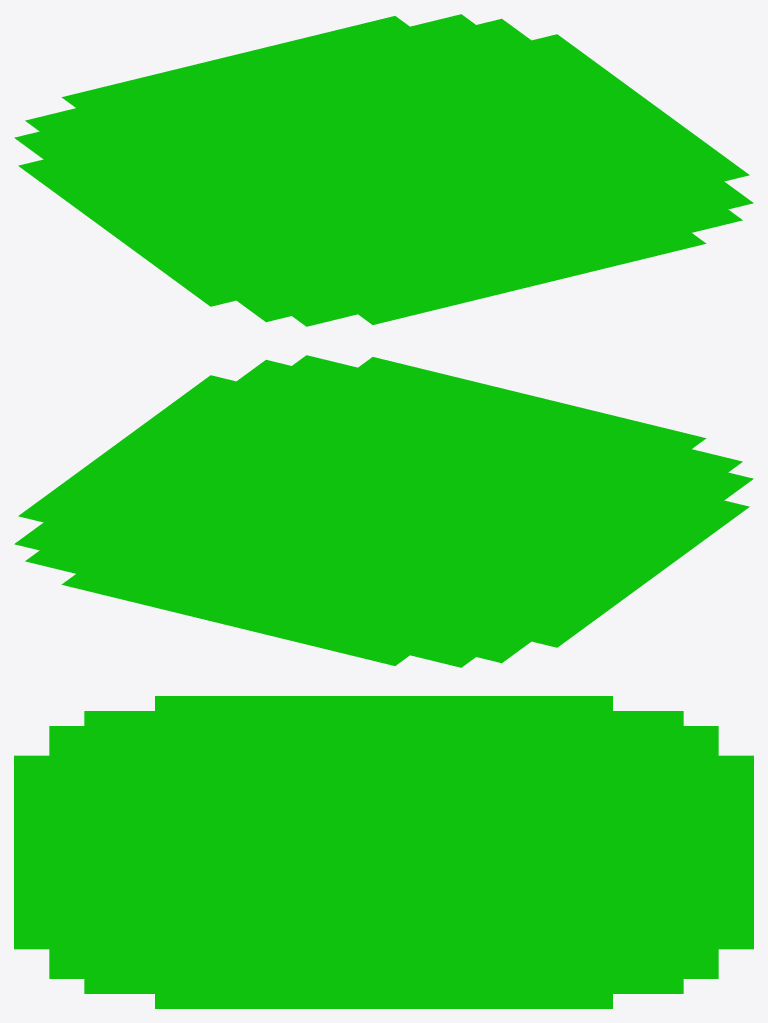
The model's file is GroundGrass.obj.
The picture shows the model from 3 angles, top to bottom: view 1: azimuth 30°, elevation 25°; view 2: azimuth 150°, elevation 25°; view 3: azimuth 270°, elevation 25°; orthographic projection. The views are drawn at different scales.
Parts seen in each view (by area): view 1: grass; view 2: grass; view 3: grass.
Boxes of the visible parts, x1,y1,x2,y2 form: grass: (14, 14, 753, 326); grass: (14, 355, 753, 667); grass: (14, 696, 753, 1008).
Bounding box in the file's own units: 21 × 0 × 21.
